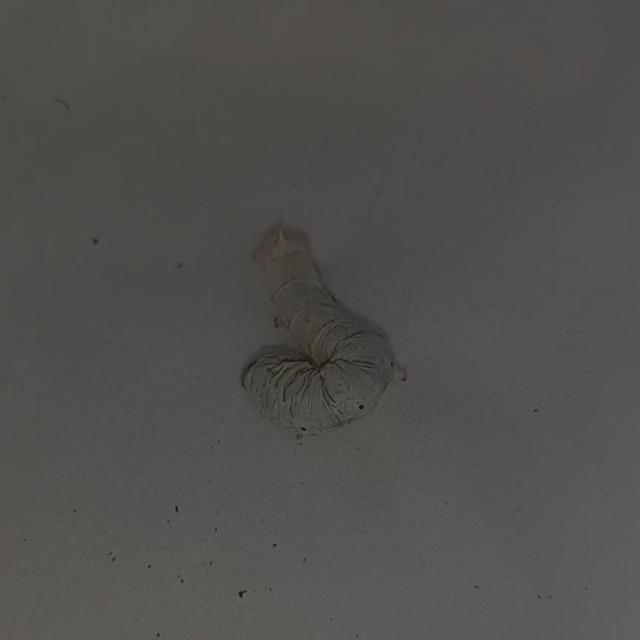Healthy: (152, 131, 428, 462)
